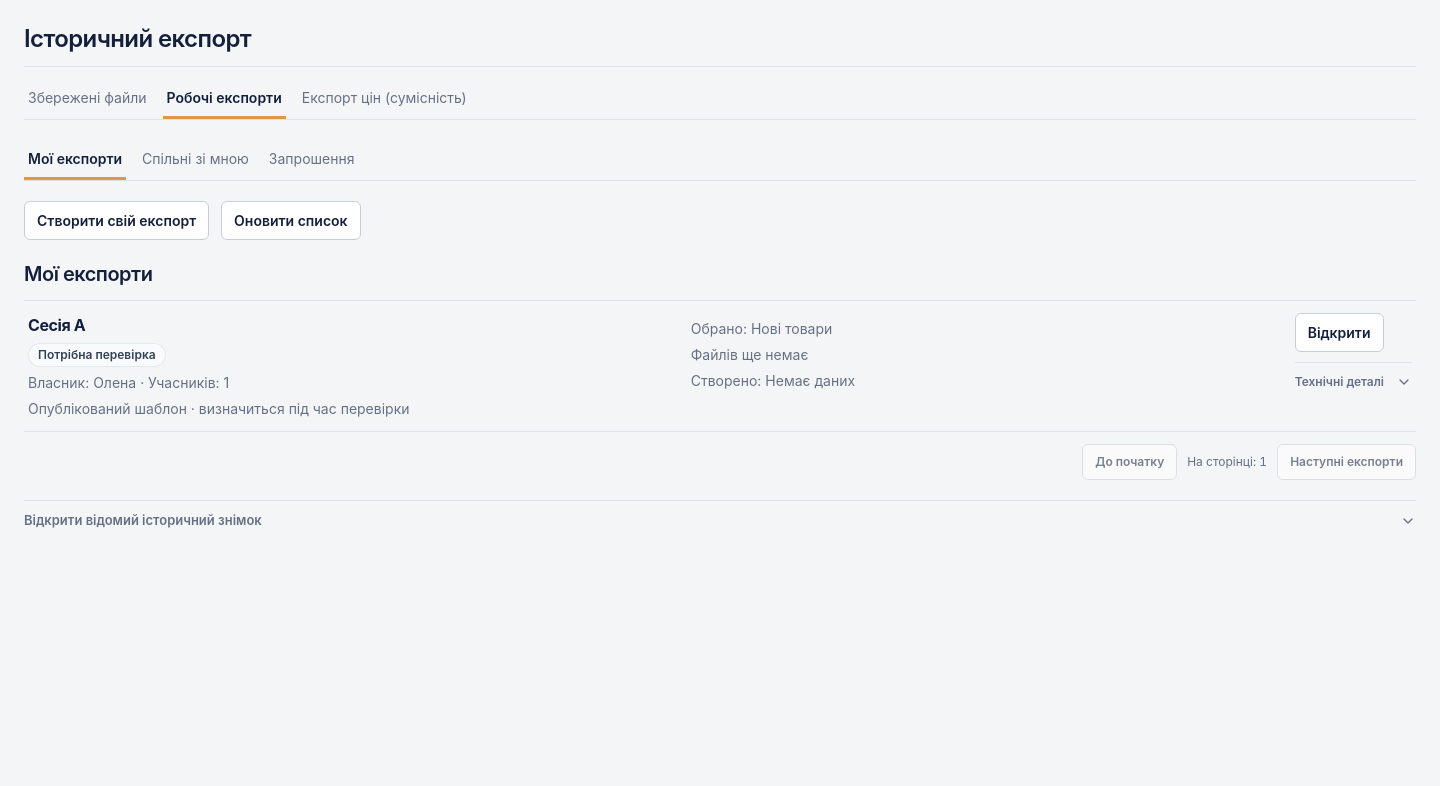
Scenario: prepared session reload requires a matching authoritative table and mismatched preview cannot generate
This screenshot has width=1440, height=786.
expect the heading "Сесія A" is shown: met, box 28,315 -> 85,335
Click the link with aria-label "Відкрити / продовжити Сесія A" at (1339, 332), box 1295,313 -> 1384,352
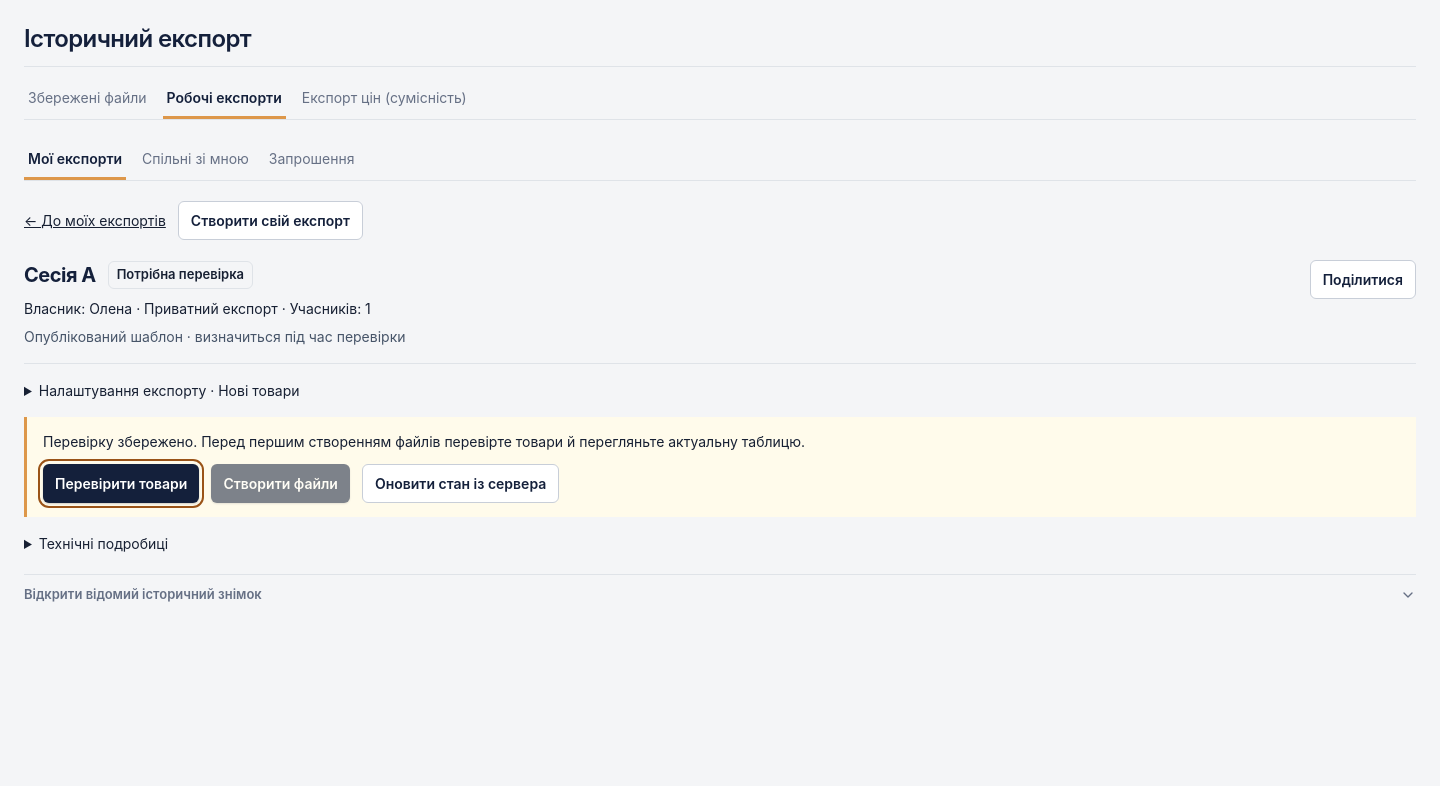
expect the button "Створити файли" is disabled: met, box 211,464 -> 350,503
Click the button "Перевірити товари" at (121, 484), box 43,464 -> 199,503
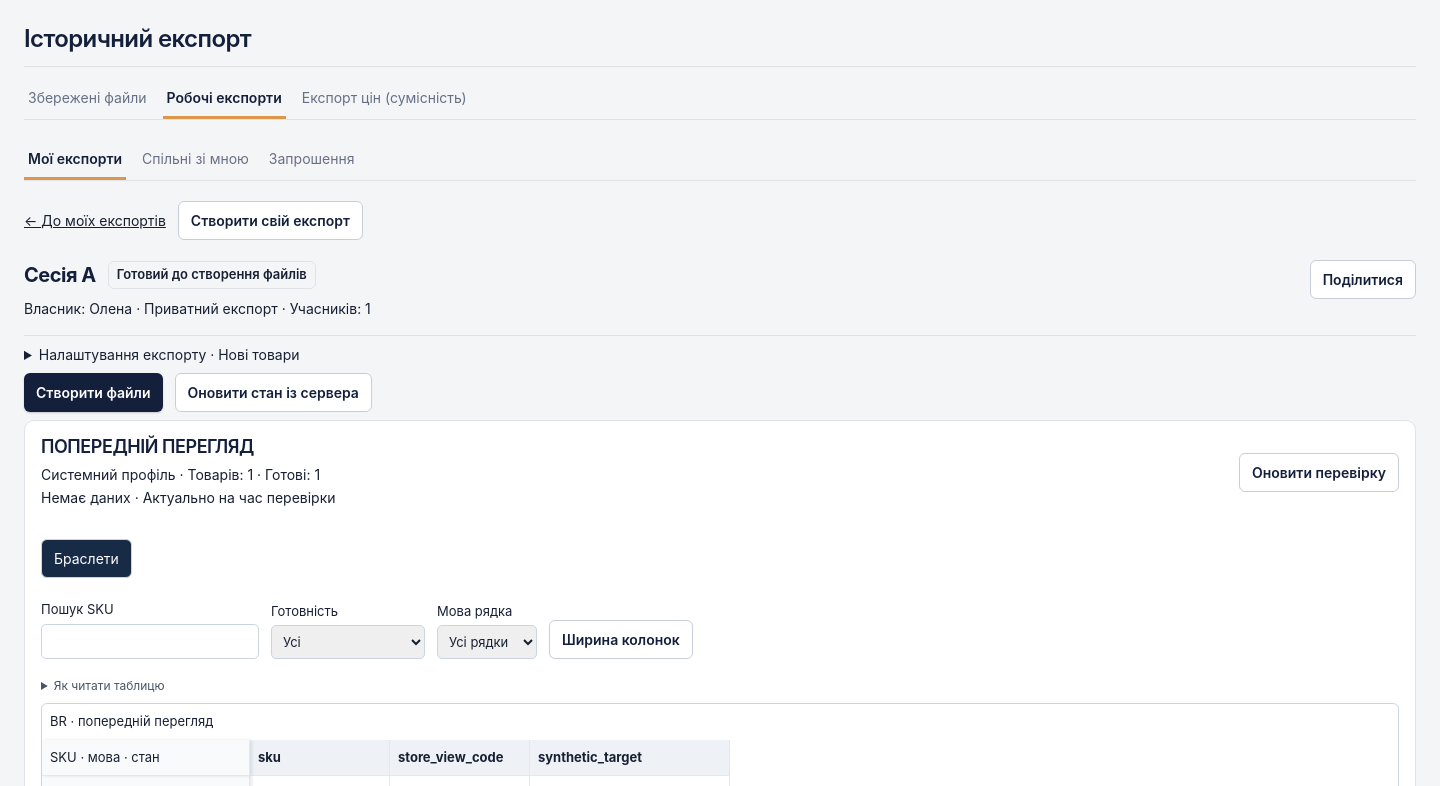
expect the button "Створити файли" is enabled: met, box 24,373 -> 162,412
Click the button "Оновити перевірку" at (1319, 472), box 1239,452 -> 1399,492
(page scrolled)
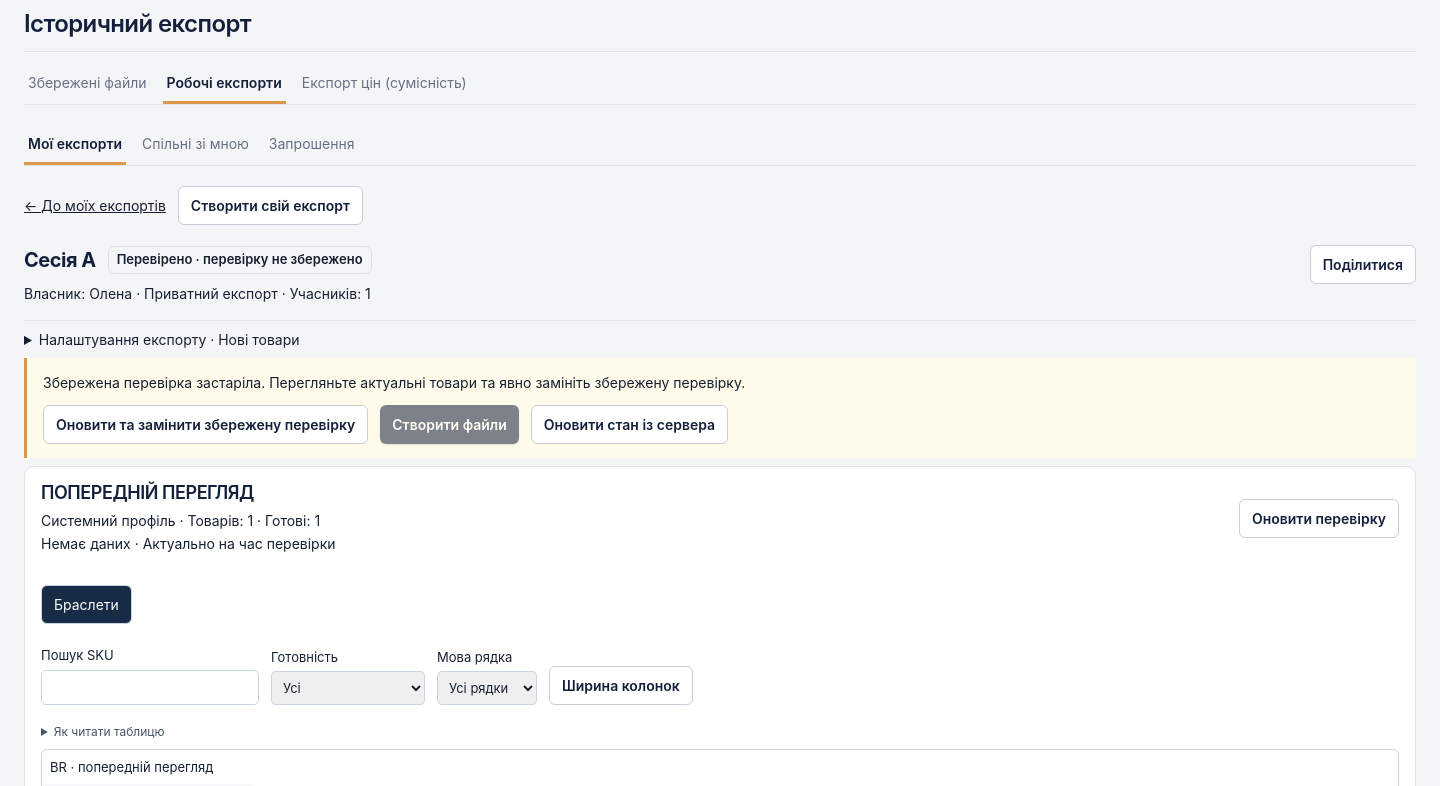
expect the button "Створити файли" is disabled: met, box 380,405 -> 519,444
expect the text "Збережена перевірка застаріла" is shown: met, box 43,374 -> 745,391
